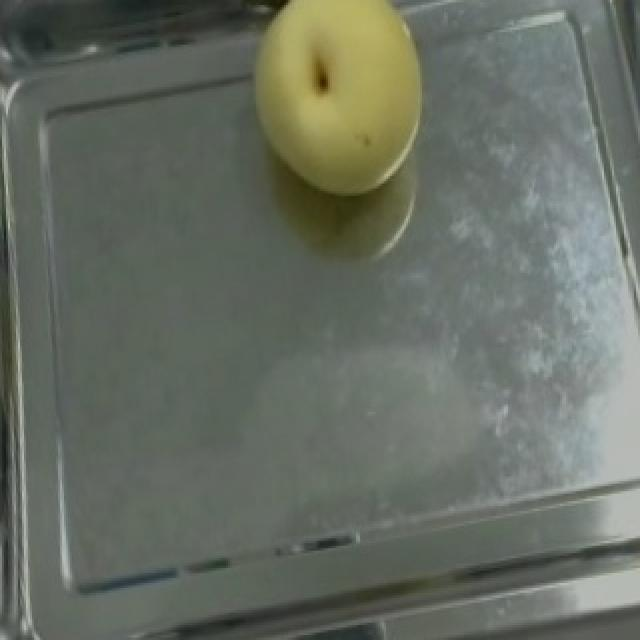Fruit: (230, 0, 448, 216)
